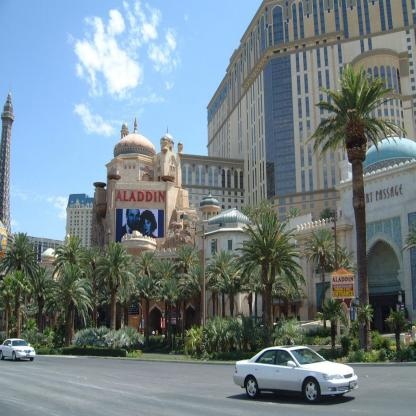Car: (234, 346, 359, 406), (0, 337, 36, 361)
